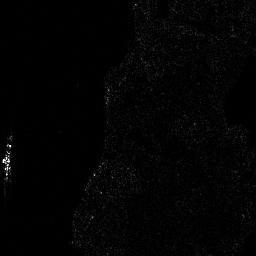ship: (3, 134, 13, 181)
